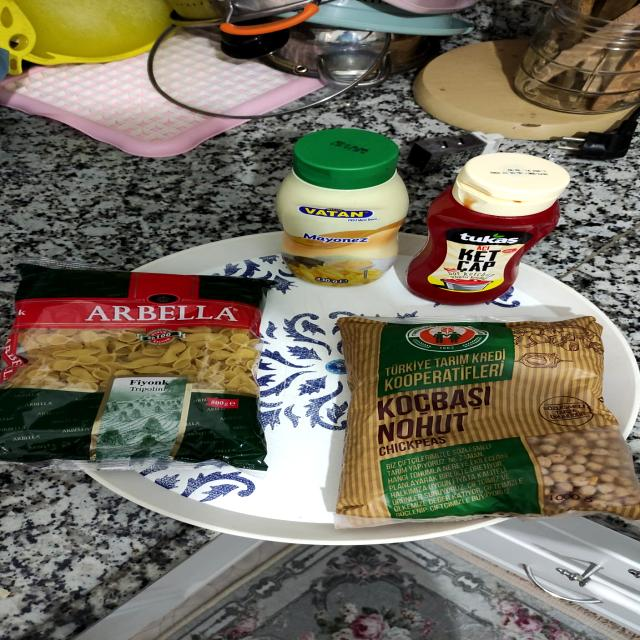chickpeas: (346, 322, 640, 523)
farfalle pasta: (17, 264, 266, 468)
ketchup: (416, 152, 570, 304)
mayonnaise: (277, 127, 403, 284)
